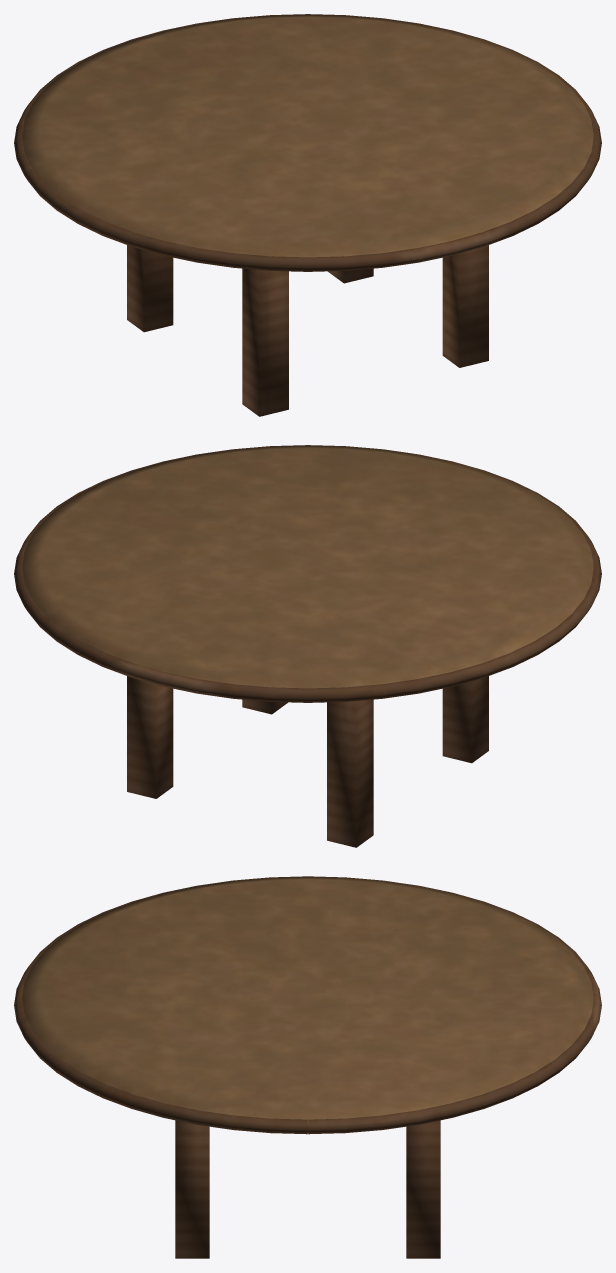
Rendered from chabudai.glb.
The picture shows the model from 3 angles, top to bottom: view 1: azimuth 30°, elevation 25°; view 2: azimuth 150°, elevation 25°; view 3: azimuth 270°, elevation 25°; orthographic projection.
Visible parts, largest first — view 1: chabudai_wood, chabudai_wood_dark; view 2: chabudai_wood, chabudai_wood_dark; view 3: chabudai_wood, chabudai_wood_dark.
Boxes of the visible parts, x1,y1,x2,y2 form: chabudai_wood: (22, 15, 593, 257); chabudai_wood_dark: (14, 14, 601, 416); chabudai_wood: (22, 446, 593, 688); chabudai_wood_dark: (14, 445, 601, 847); chabudai_wood: (22, 877, 593, 1131); chabudai_wood_dark: (14, 876, 601, 1258).
Size of the model in its own units: 1.73 by 0.68 by 1.73.
2 materials, 2 textured.
